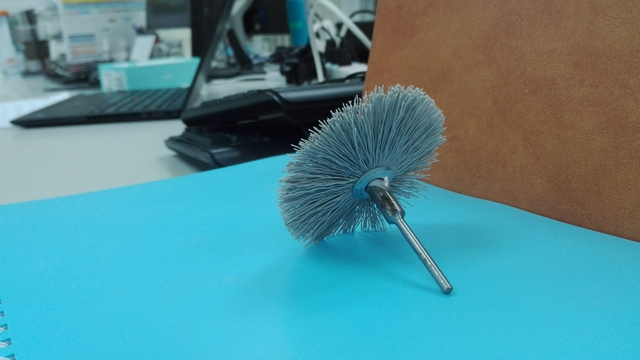TOOL: (233, 52, 516, 307), (253, 75, 447, 222), (286, 110, 386, 272)
